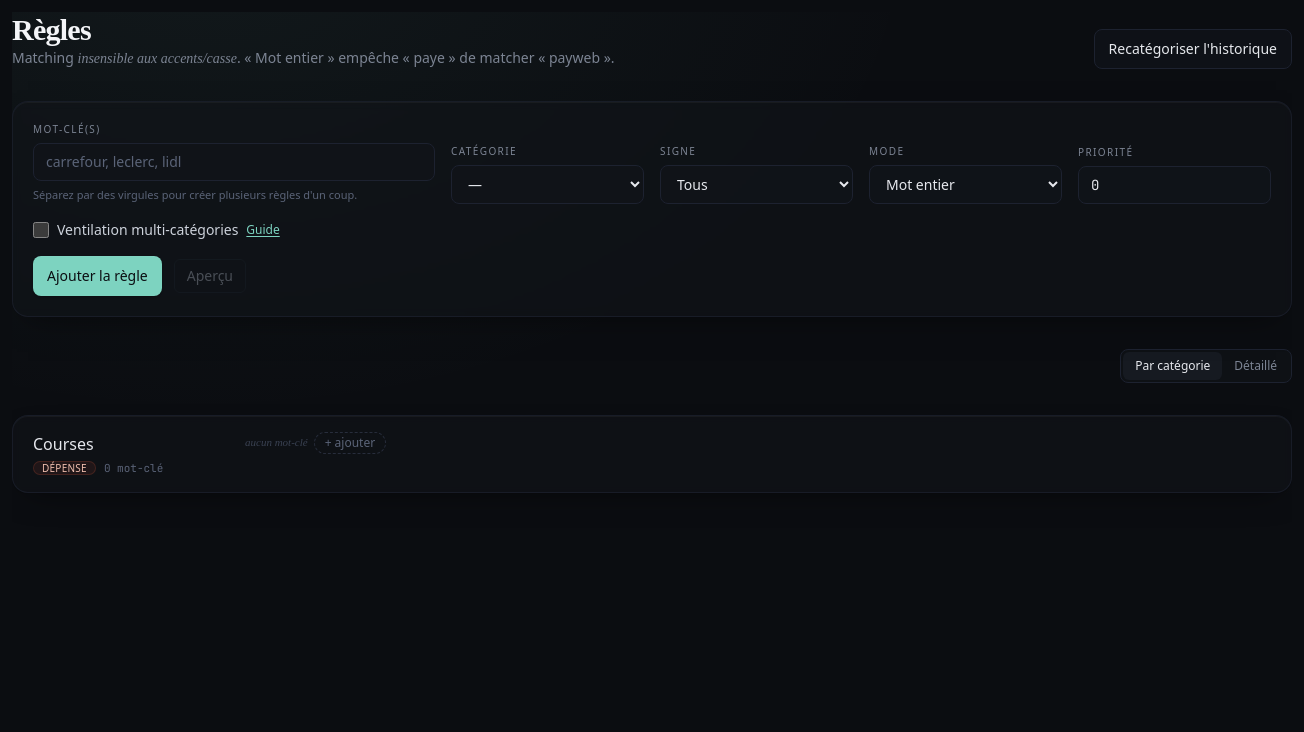
Test: Rules page (characterization) › renders the flat-view empty state when rules is empty
// Switch to flat view.
Click the button "Détaillé" at (1256, 366), box [1222,352,1289,380]
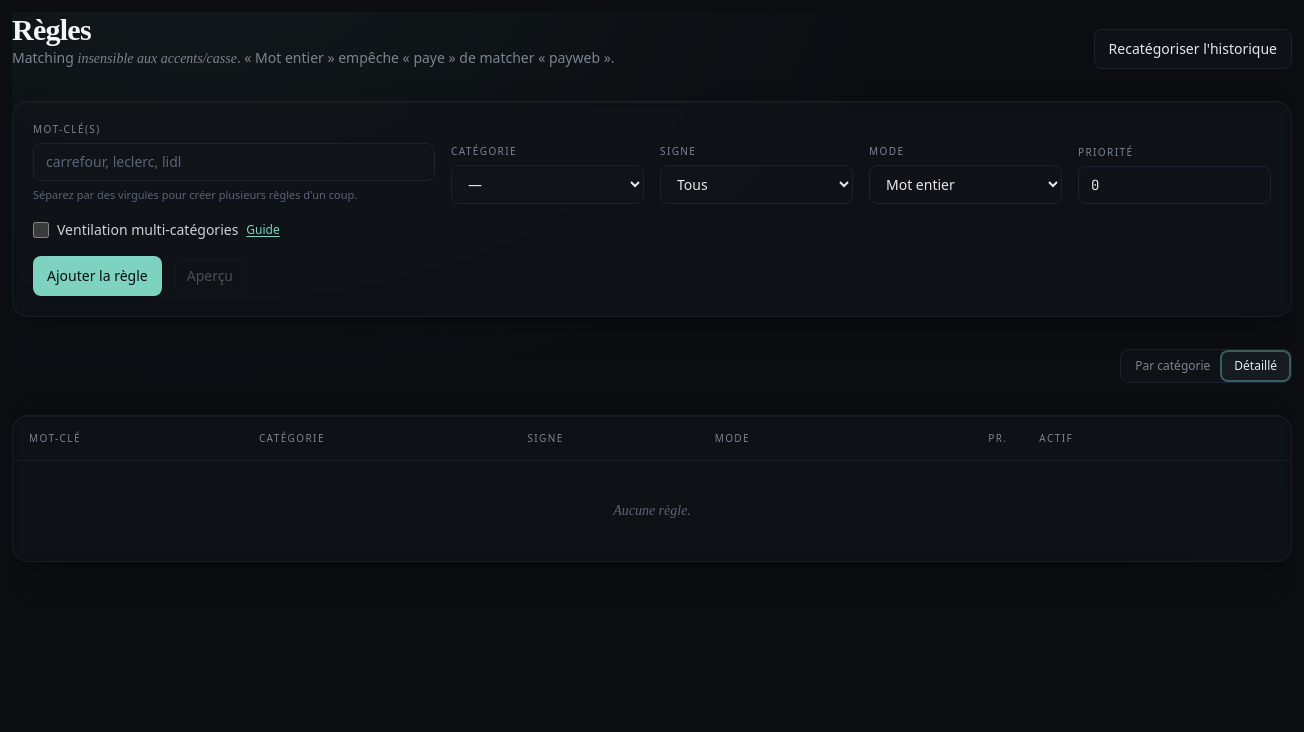
expect the text "Aucune règle." is shown: met, box [13,460,1291,560]
